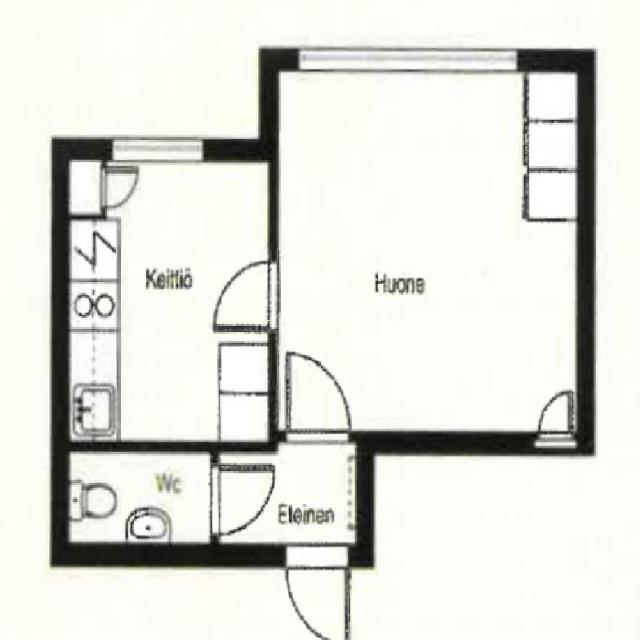door: (285, 544, 348, 640), (287, 360, 346, 443), (212, 260, 278, 328), (210, 468, 272, 534), (221, 385, 266, 453), (100, 169, 135, 206)
